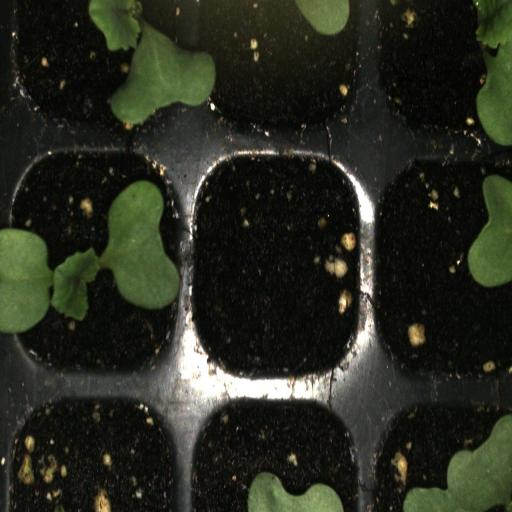noseedling: (186, 145, 367, 388)
seedling: (4, 144, 188, 391)
